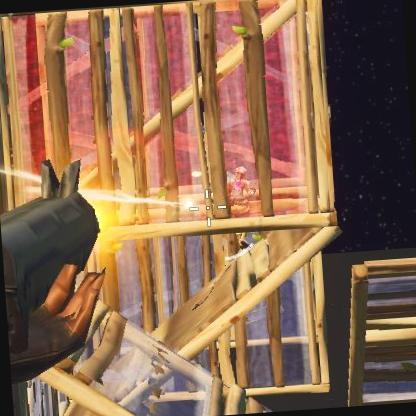person: (228, 166, 250, 240)
